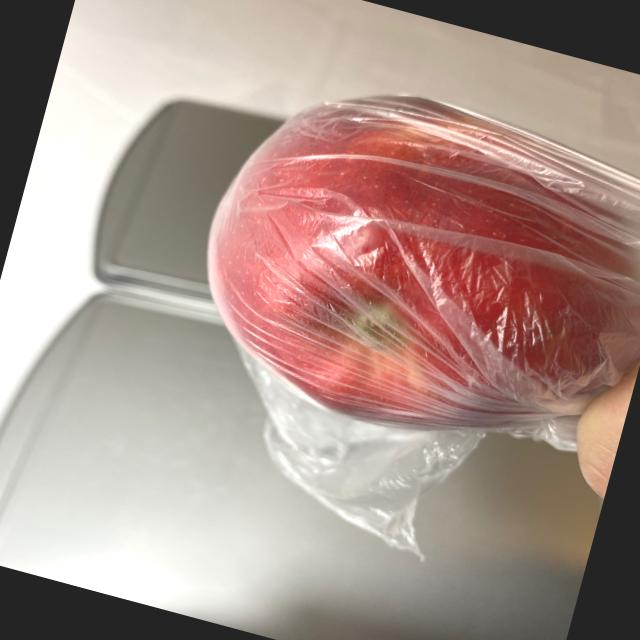apple: (161, 42, 640, 483)
